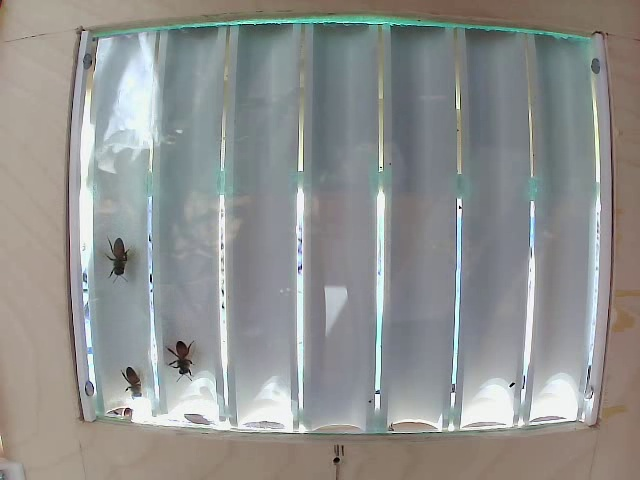bee: (164, 333, 207, 374), (104, 227, 136, 282), (127, 361, 159, 400)
